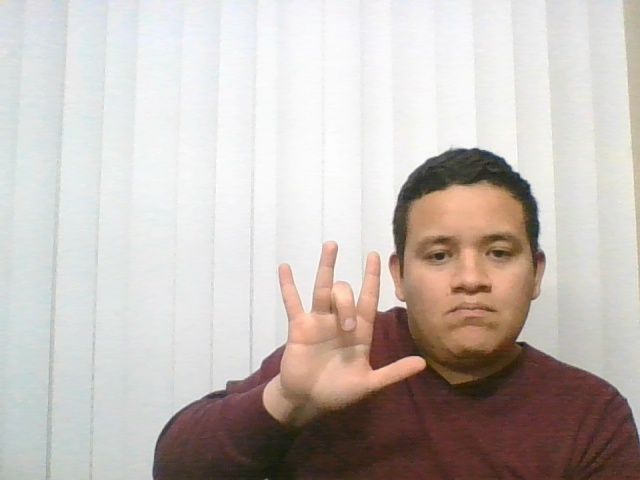Eight: (214, 228, 436, 417)
